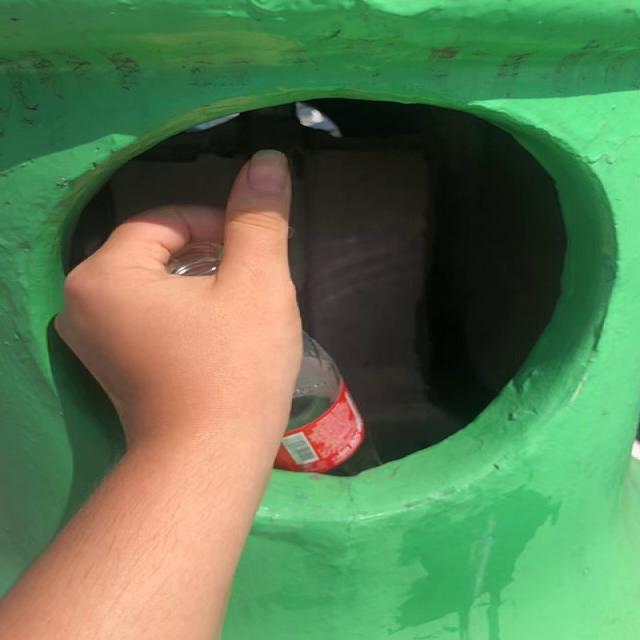glass: (275, 333, 381, 476), (167, 243, 221, 276)
